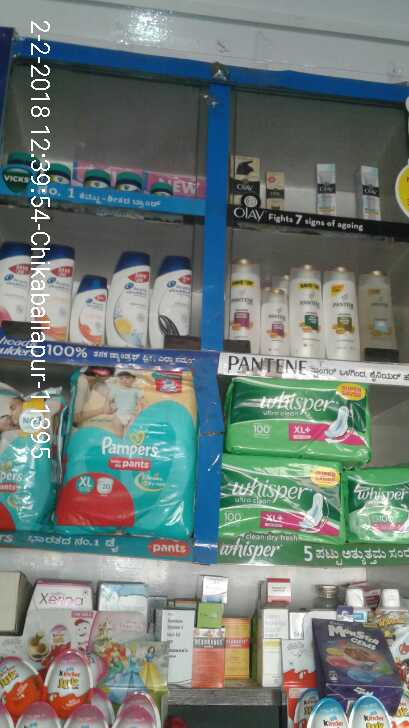beauty: (321, 268, 363, 362), (108, 250, 148, 348), (151, 251, 188, 349), (361, 270, 399, 364), (229, 256, 259, 354), (291, 265, 321, 359), (69, 273, 106, 345), (263, 286, 289, 356), (229, 153, 259, 207), (354, 164, 381, 220), (314, 161, 336, 215), (268, 169, 283, 210)
pharmacy: (71, 369, 199, 537), (215, 450, 347, 540), (238, 376, 371, 464), (1, 380, 65, 532), (343, 466, 409, 540), (114, 172, 146, 192), (86, 172, 110, 190), (150, 183, 173, 196)
